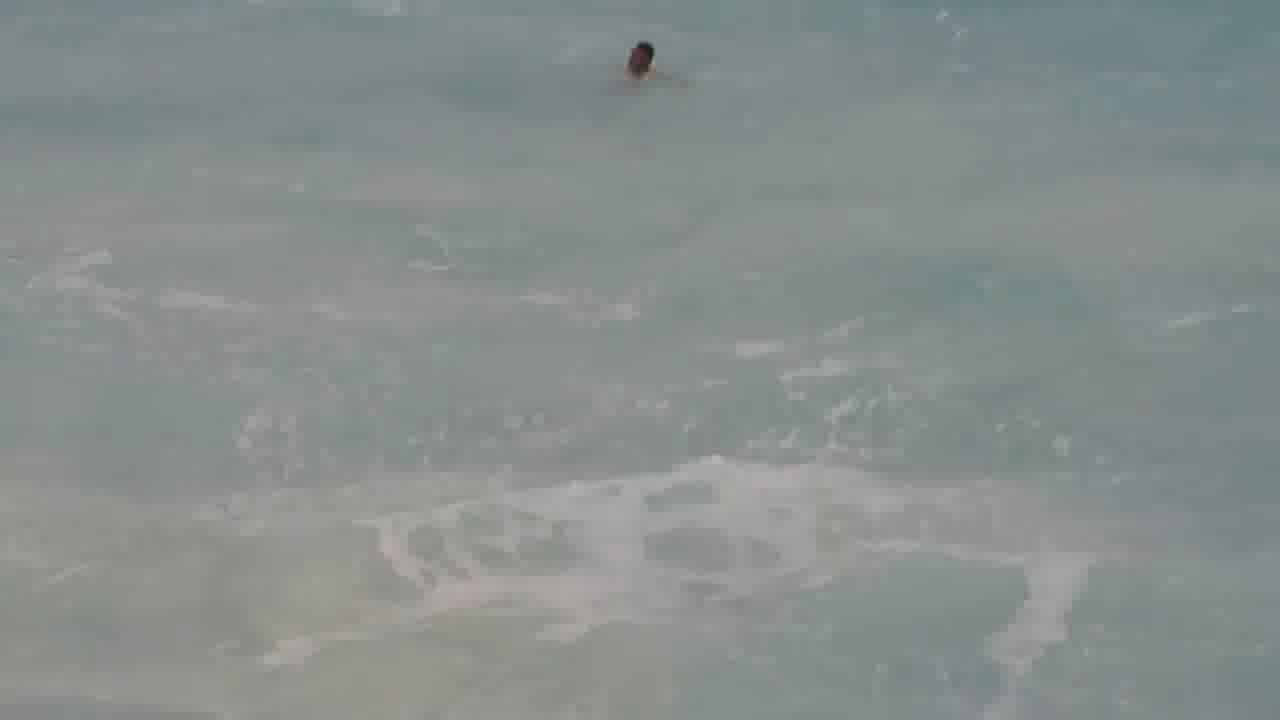swimmer: (607, 30, 673, 89)
